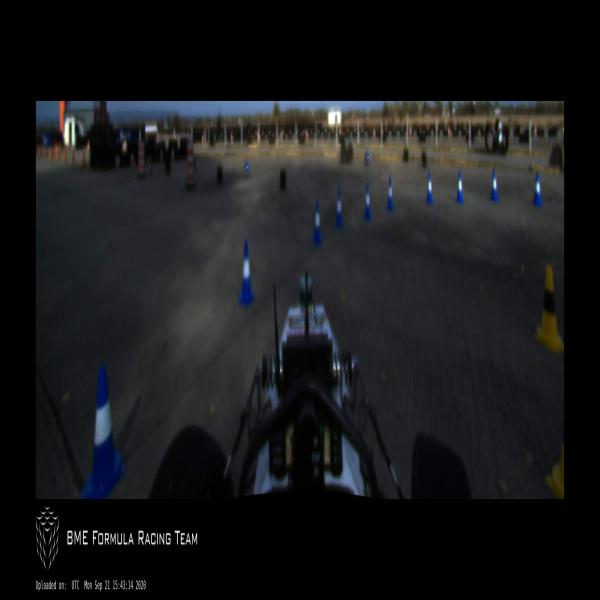blue_cone: (82, 365, 126, 498), (238, 240, 255, 306), (313, 199, 322, 244), (532, 173, 542, 206), (363, 184, 372, 219), (455, 172, 465, 203), (335, 190, 343, 226), (490, 170, 499, 201), (386, 178, 394, 211), (427, 173, 434, 204)
yellow_cone: (535, 266, 564, 353)
